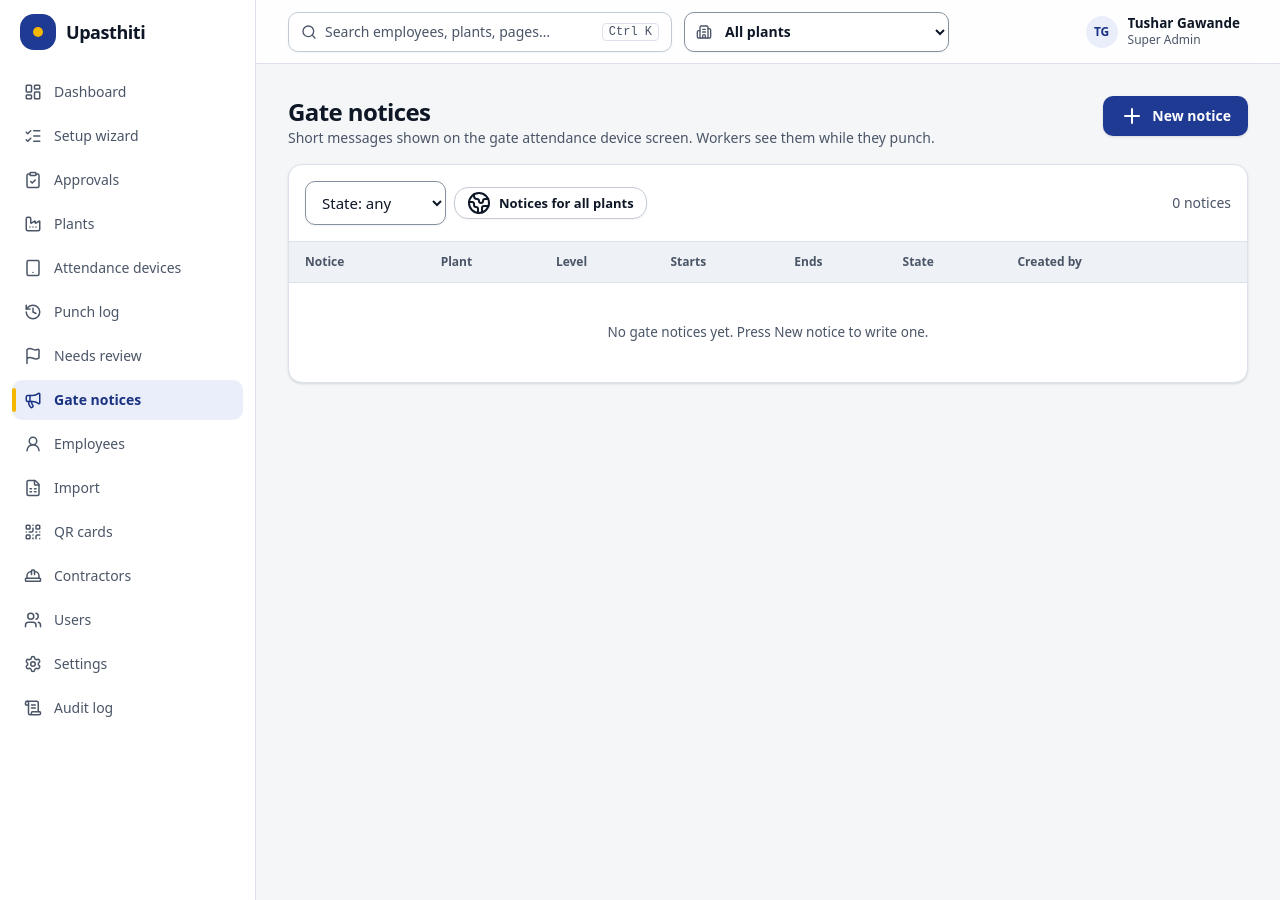
Test: gate notices: the form › starts now and ends tonight at 23:59, and counts the characters
Click the button "New notice" at (1176, 116), box [1103,96,1248,136]
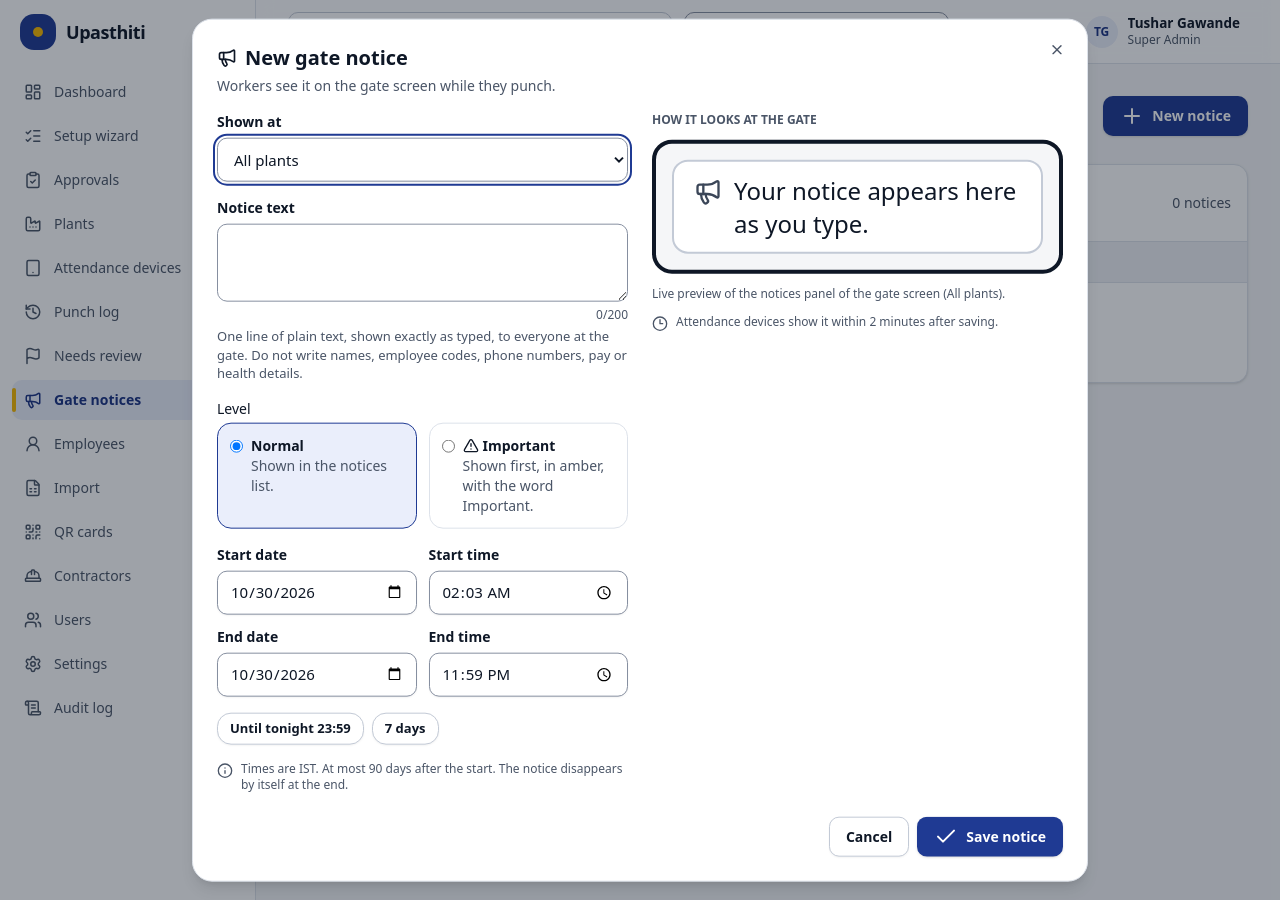
Expected: the time field labelled "End time" holds "23:59", [428,652,628,696]
Expected: the text "0/200" is shown, [596,306,628,323]
Type "Helmets needed" into the text box labelled "Notice text" at (422, 263), box [217,224,628,302]
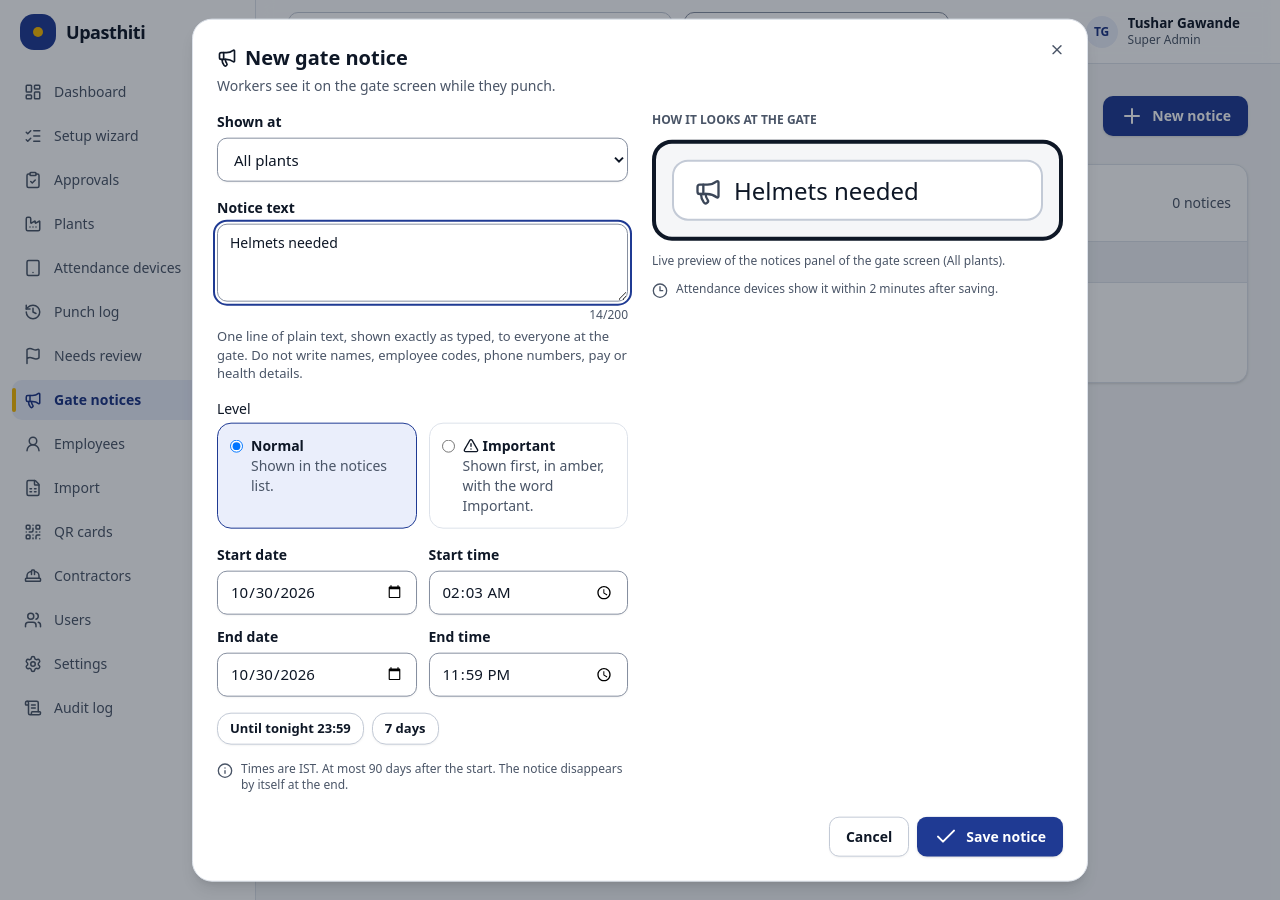
Expected: the text "14/200" is shown, [589,306,628,323]
